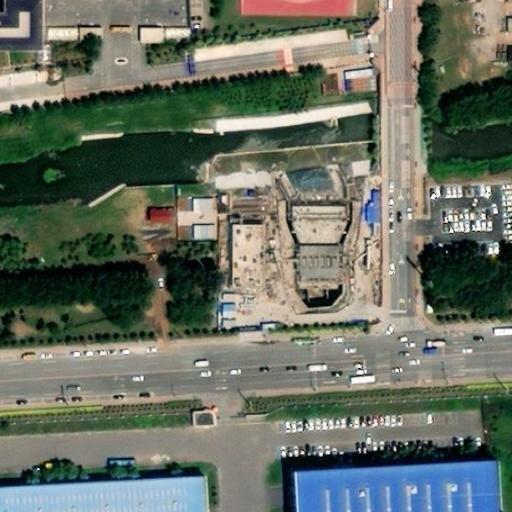building: (0, 472, 207, 512), (294, 471, 494, 512), (208, 90, 374, 133), (287, 198, 346, 242), (293, 237, 342, 281), (231, 239, 264, 302), (173, 191, 216, 239), (285, 161, 330, 191), (341, 63, 375, 90), (45, 39, 104, 54), (140, 41, 187, 58), (344, 153, 371, 175), (188, 403, 214, 425), (145, 202, 173, 221)
